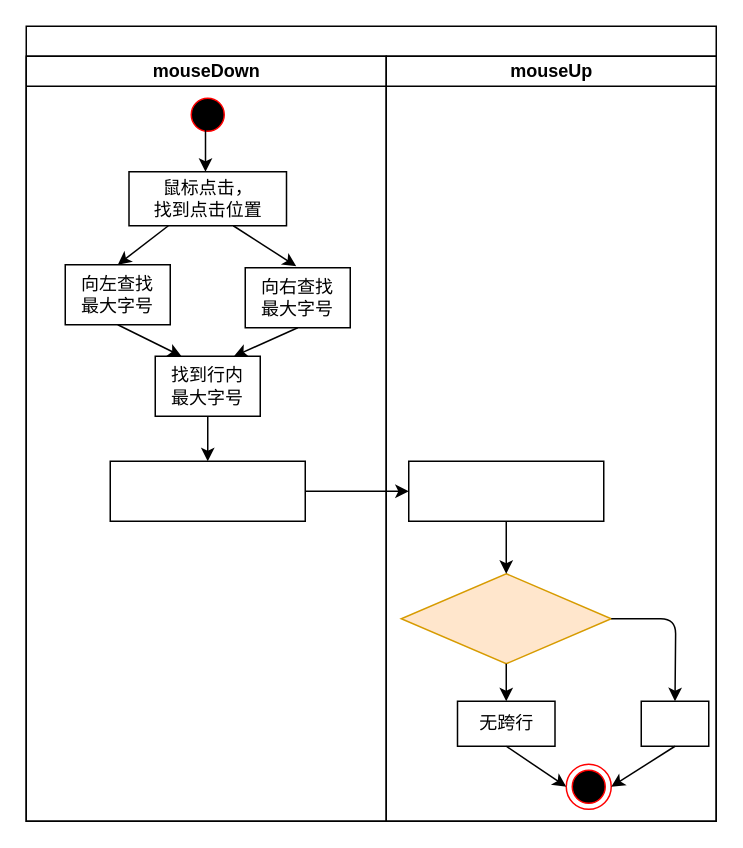
This 743x848 diagram has some shape labels left out. The centre of each missing label's shape, as x and y in pixels:
有跨行: the point at 674,723
比较verticalRange 的y值: the point at 505,618
计算最后一段叶子节点的verticalRnage: the point at 505,490
计算第一段叶子节点的verticalRnage: the point at 207,490
